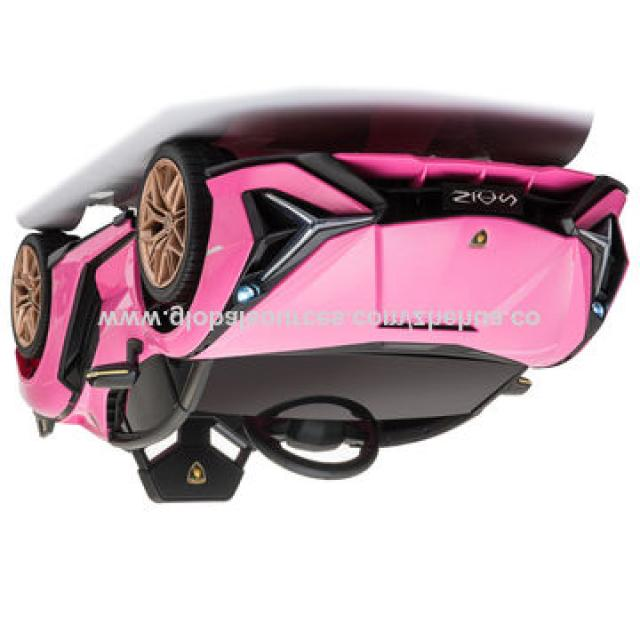Car: (9, 137, 629, 507)
